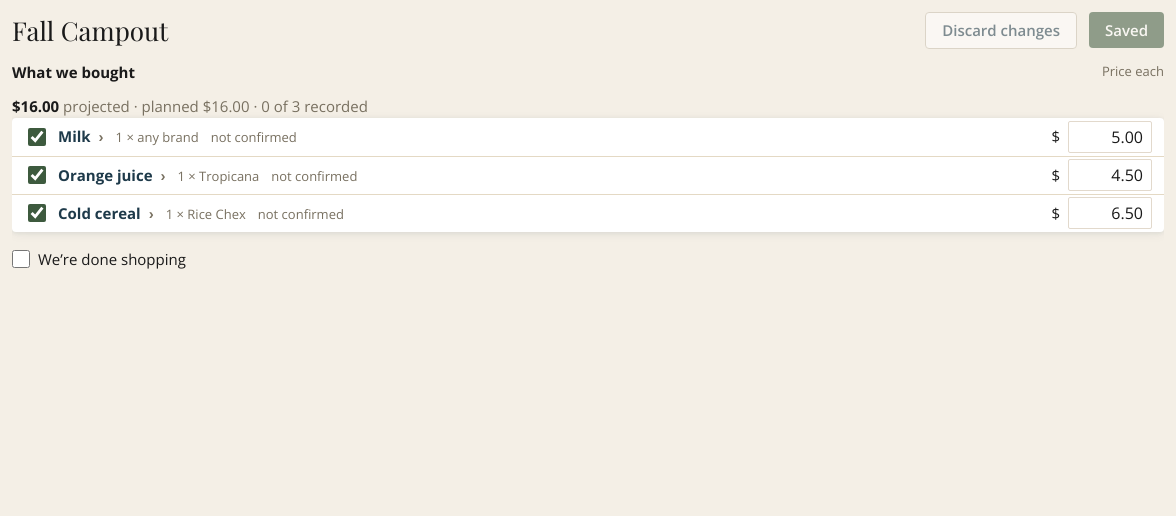
Test: What we bought — the accordion › TwoRows_StayOpenTogether
Click the button "Cold cereal ›".
click(106, 213)  # box [58,202,154,224]
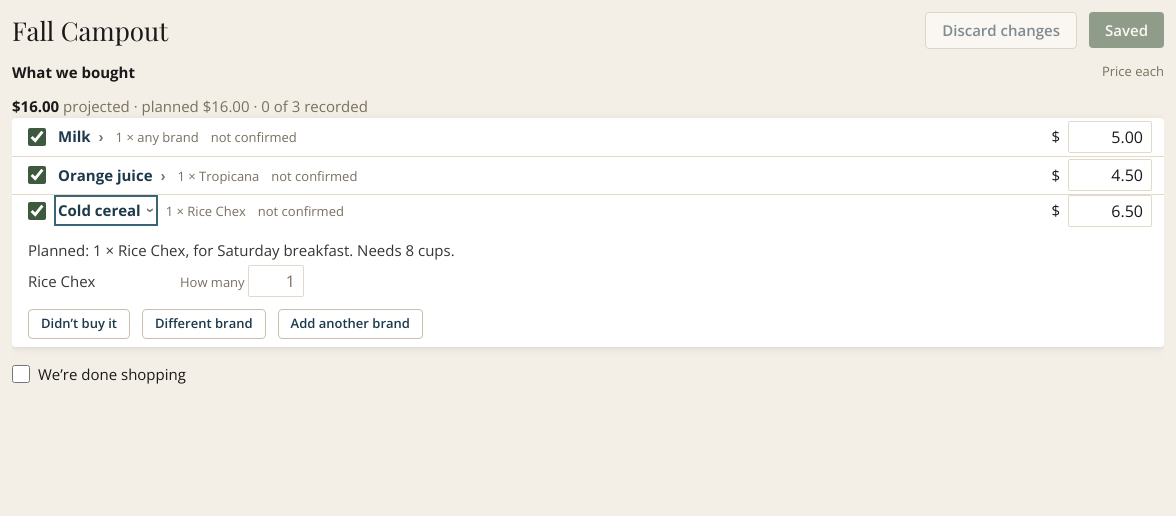
Click the button "Milk ›".
click(81, 137)  # box [58,125,104,148]
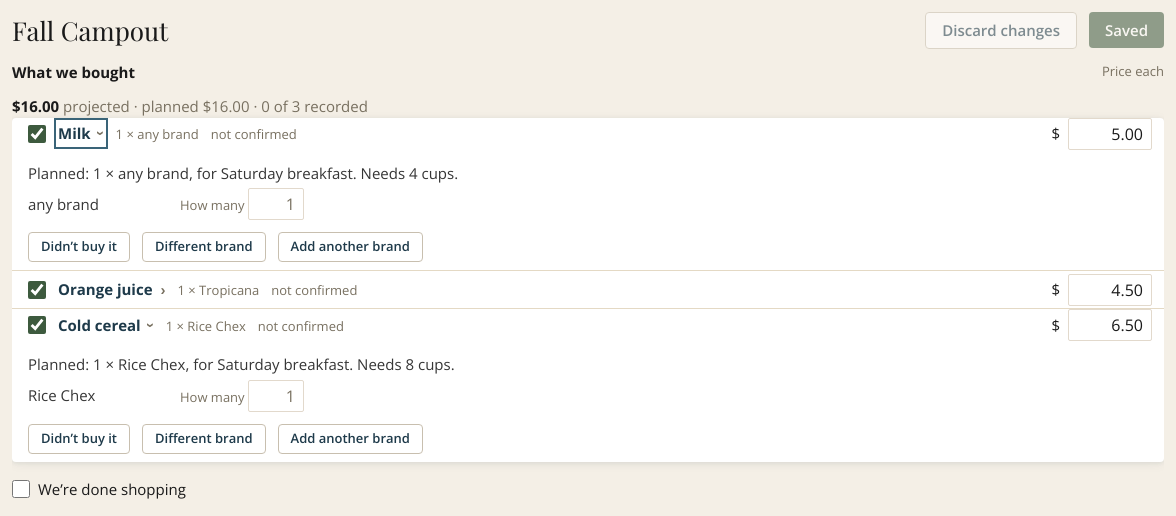
Expected: the number of buttons "Didn’t buy it" is 2, [28,232,130,262]; [28,424,130,454]
